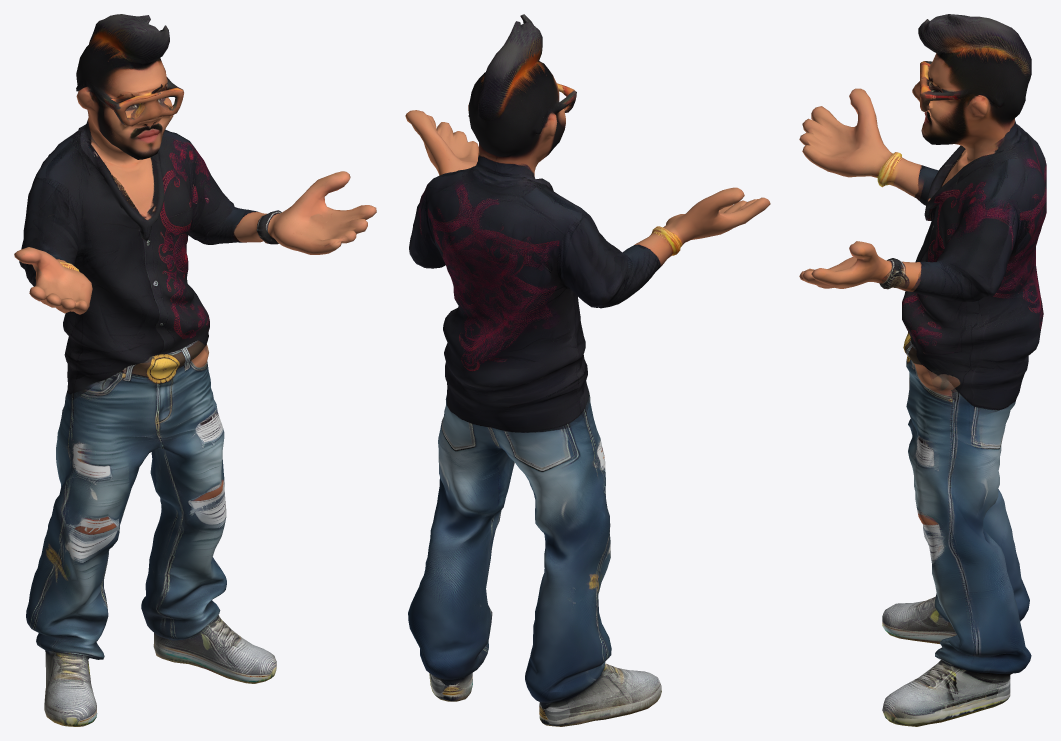
The model's file is Meshy_AI_Stylized_semi_realist_0424223130_texture.glb.
3 renders of one model, left to right at view 1: azimuth 30°, elevation 25°; view 2: azimuth 150°, elevation 25°; view 3: azimuth 270°, elevation 25°, orthographic.
Size of the model in its own units: 1.03 by 1.91 by 0.6419.
Materials: 1 (1 with a texture image).
